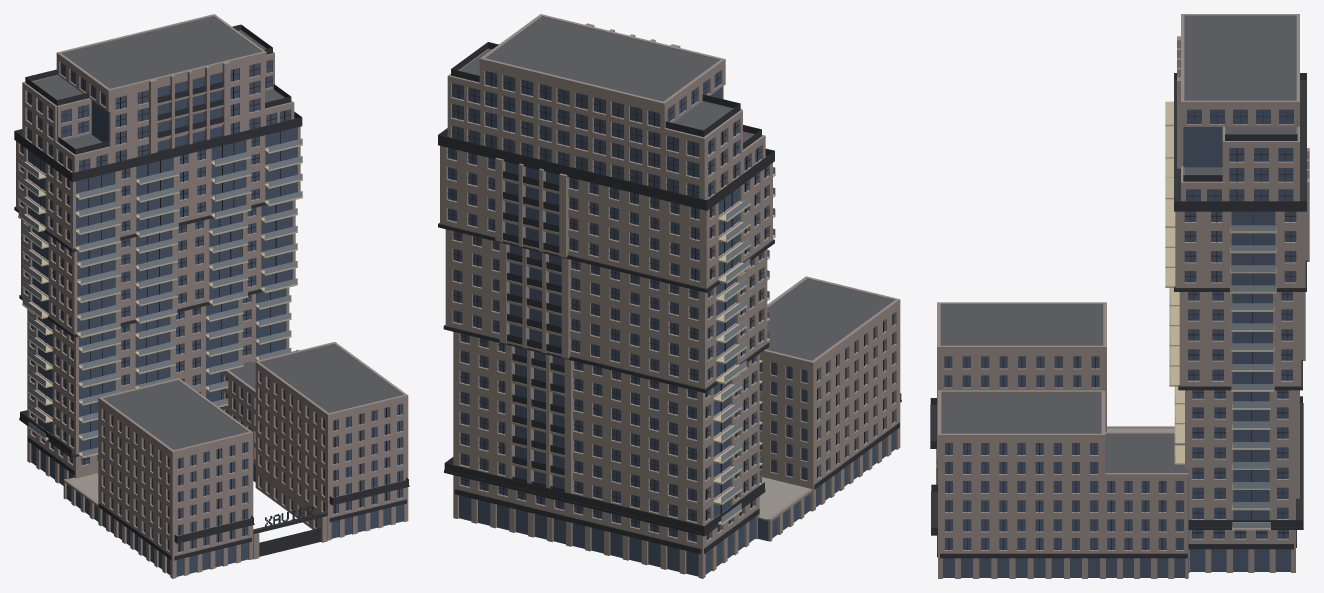
Rendered from xavier-zuidas.glb.
The picture shows the model from 3 angles, left to right: view 1: azimuth 30°, elevation 25°; view 2: azimuth 150°, elevation 25°; view 3: azimuth 270°, elevation 25°; orthographic projection. The views are drawn at different scales.
Parts seen in each view (by area): view 1: xavier-zuidas; view 2: xavier-zuidas; view 3: xavier-zuidas.
Boxes of the visible parts, bbox=[...] form: xavier-zuidas: bbox=[14, 14, 409, 578]; xavier-zuidas: bbox=[438, 14, 901, 578]; xavier-zuidas: bbox=[930, 14, 1309, 578].
Size of the model in its own units: 47.3 by 74.3 by 55.85.
